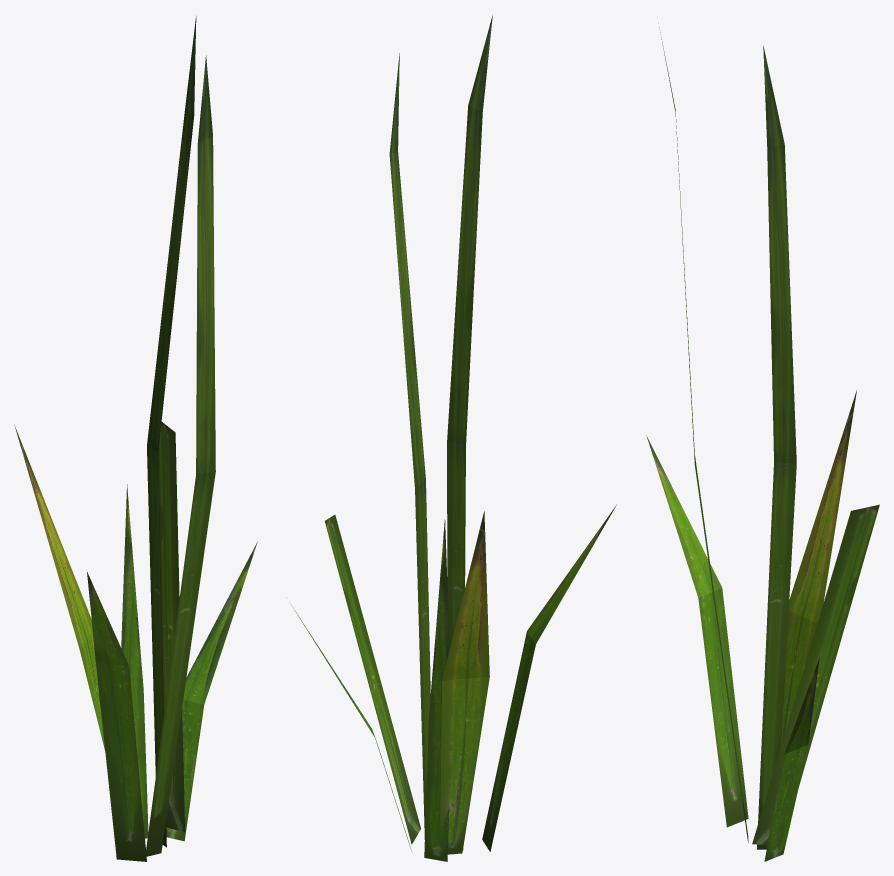
The model's file is grass2.glb.
3 views of the same model, side by side, from view 1: azimuth 30°, elevation 25°; view 2: azimuth 150°, elevation 25°; view 3: azimuth 270°, elevation 25° (orthographic). The views are drawn at different scales.
Visible parts, largest first — view 1: Grass2; view 2: Grass2; view 3: Grass2.
Boxes of the visible parts, x1=… form: Grass2: x1=14, y1=16, x2=257, y2=861; Grass2: x1=291, y1=15, x2=616, y2=861; Grass2: x1=646, y1=27, x2=879, y2=861.
Size of the model in its own units: 0.6222 by 1.92 by 0.4895.
1 material, 1 textured.
